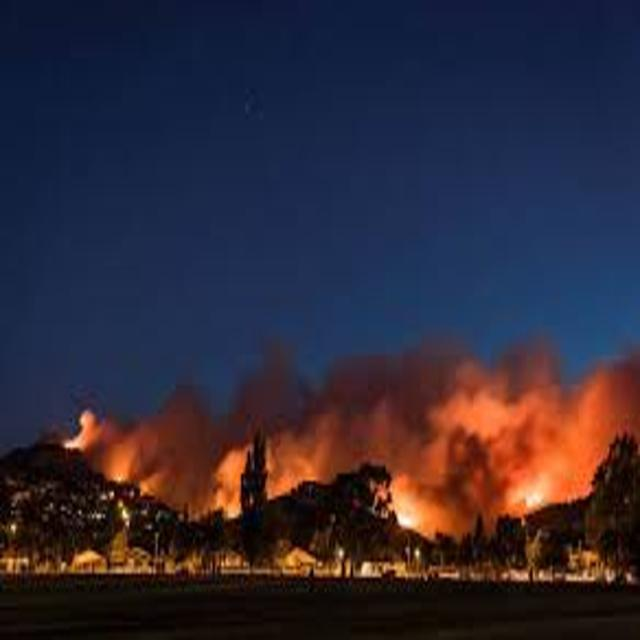Fire: (46, 406, 136, 486), (370, 474, 428, 538), (505, 464, 557, 518)
Smoke: (334, 340, 640, 458), (143, 354, 330, 522)
